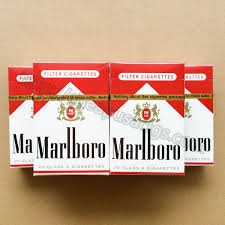marlboro: (34, 64, 109, 176), (110, 65, 183, 175)
